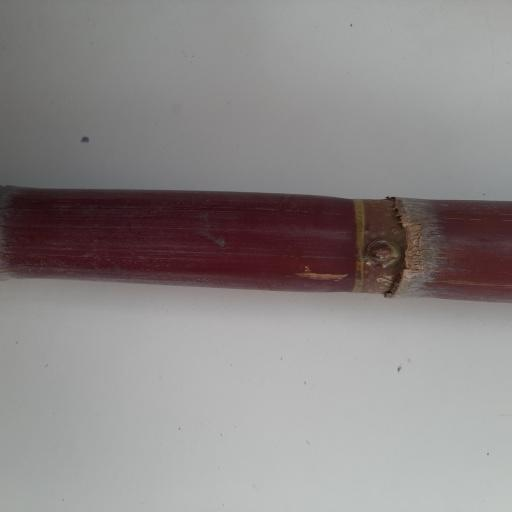Bud: (363, 239, 401, 267)
